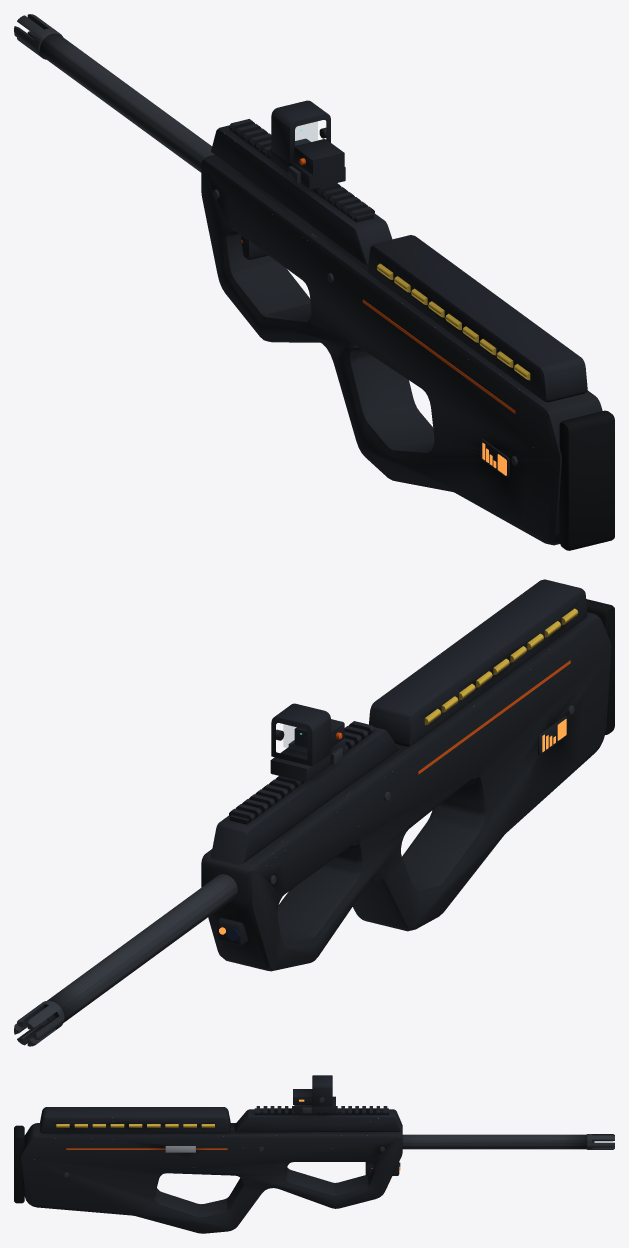
3 views of the same model, one above another, from view 1: azimuth 30°, elevation 25°; view 2: azimuth 150°, elevation 25°; view 3: azimuth 270°, elevation 25° (orthographic). The views are drawn at different scales.
Visible parts, largest first — view 1: body_furn, body_frame2, mag_frame2, body_rubber, body_steel, mag_brass; view 2: body_furn, body_frame2, mag_frame2, body_steel, mag_brass, body_rubber, body_accent; view 3: body_furn, body_frame2, mag_frame2, body_steel, body_rubber, mag_brass, body_accent.
Part boxes in pixels (<box>): body_furn: <box>201,154,602,545</box>; body_frame2: <box>211,100,509,478</box>; mag_frame2: <box>368,235,587,402</box>; body_rubber: <box>559,410,614,550</box>; body_steel: <box>14,14,517,465</box>; mag_brass: <box>377,263,530,380</box>; body_furn: <box>201,612,611,971</box>; body_frame2: <box>211,703,567,945</box>; mag_frame2: <box>369,579,587,746</box>; body_steel: <box>14,705,574,1046</box>; mag_brass: <box>424,608,578,725</box>; body_rubber: <box>586,599,614,734</box>; body_accent: <box>335,660,570,774</box>; body_furn: <box>20,1123,402,1233</box>; body_frame2: <box>234,1075,402,1175</box>; mag_frame2: <box>40,1107,230,1133</box>; body_steel: <box>64,1097,614,1177</box>; body_rubber: <box>14,1125,24,1203</box>; mag_brass: <box>56,1124,214,1127</box>; body_accent: <box>66,1148,372,1168</box>.
Size of the model in its own units: 0.0557 by 0.2444 by 0.894.
